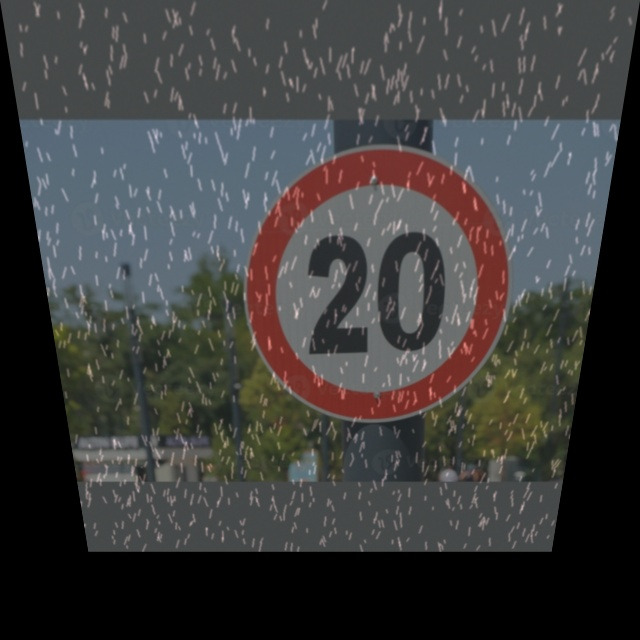Speed_Limit_20: (241, 140, 522, 412)
